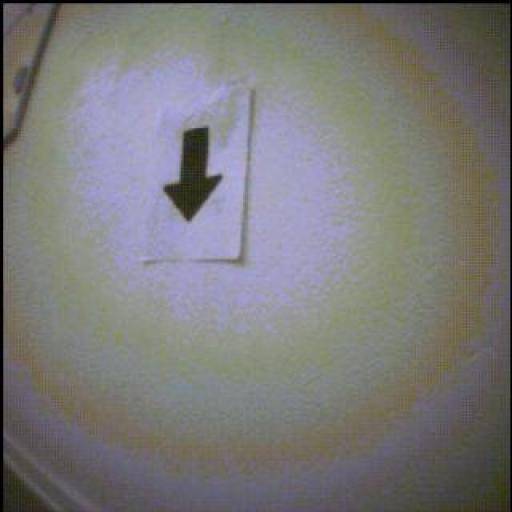Arrow: (165, 127, 224, 222)
